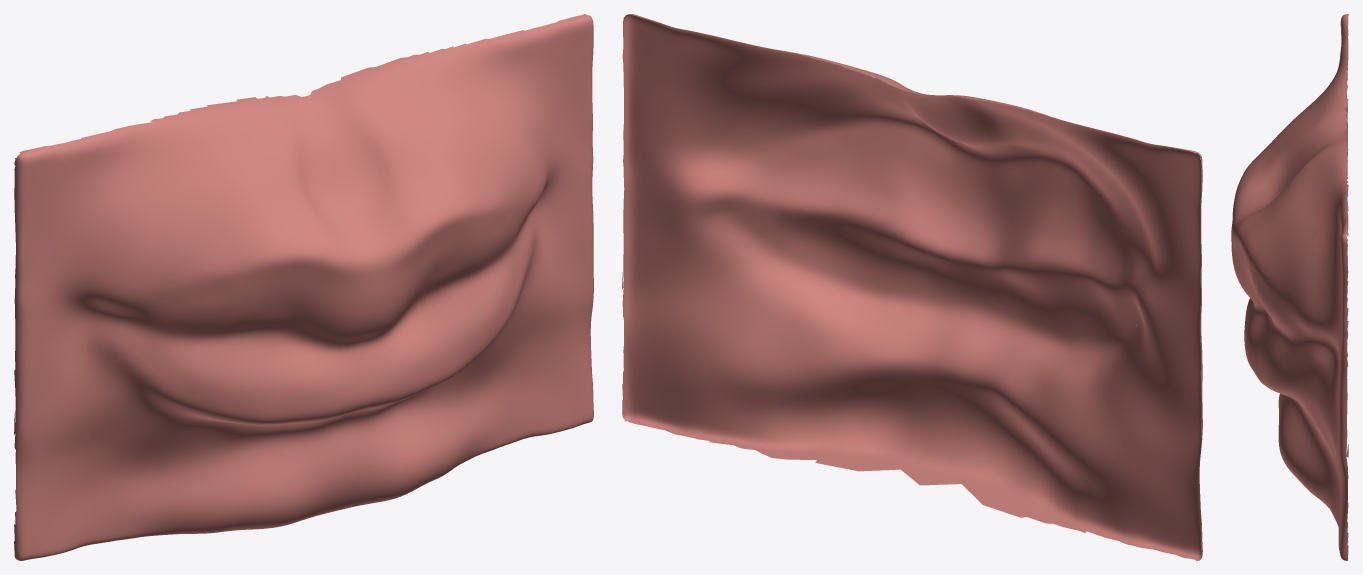
File: lips.glb
3 renders of one model, left to right at view 1: azimuth 30°, elevation 25°; view 2: azimuth 150°, elevation 25°; view 3: azimuth 270°, elevation 25°, orthographic. The views are drawn at different scales.
Parts seen in each view (by area): view 1: LipUpper, LipLower; view 2: LipUpper, LipLower; view 3: LipUpper, LipLower.
Boxes of the visible parts, x1,y1,x2,y2 form: LipUpper: (14, 14, 593, 398); LipLower: (14, 243, 593, 560); LipUpper: (622, 14, 1202, 390); LipLower: (622, 236, 1202, 560); LipUpper: (1231, 14, 1348, 430); LipLower: (1244, 221, 1348, 560).
Size of the model in its own units: 1.96 by 1.33 by 0.4301.
